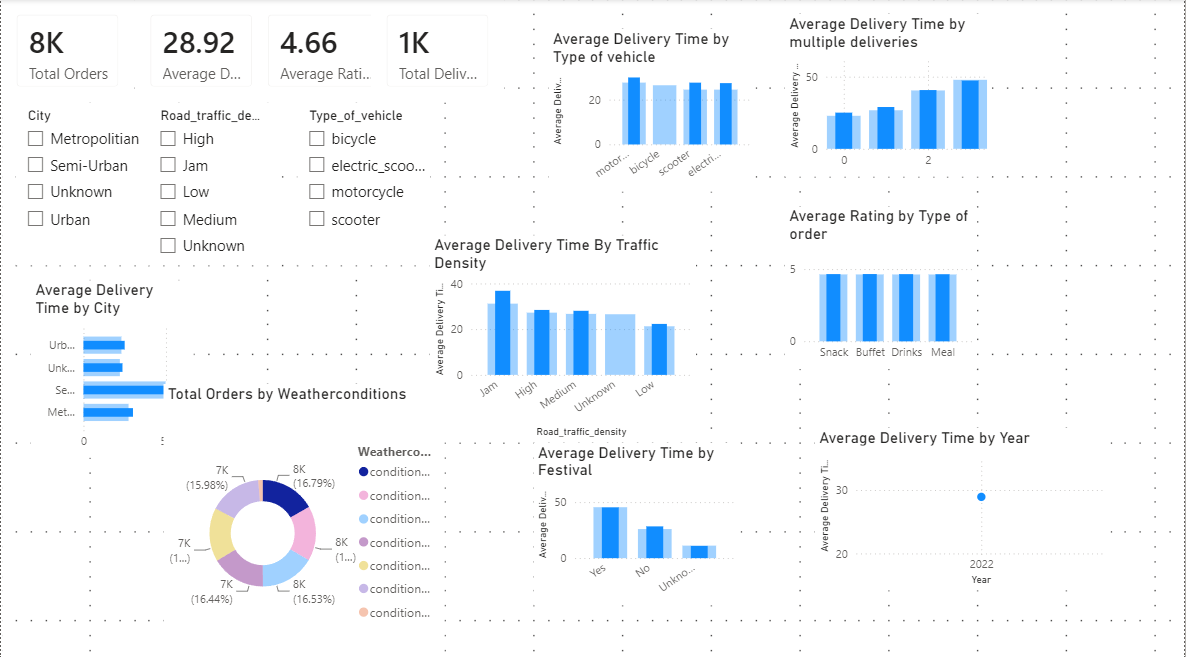

Layout of this report page (visuals, bound fields, positions):
{"tool":"powerbi","page":{"name":"Page 1","canvas":[1280,720],"ordinal":0},"visuals":[{"type":"cardVisual","fields":{"Data":["cleaned_train.Total Orders"]},"box":[0,0,144,112],"z":0},{"type":"cardVisual","fields":{"Data":["cleaned_train.Average Rating"]},"box":[272,0,160,112],"z":1000},{"type":"cardVisual","fields":{"Data":["cleaned_train.Total Delivery Persons"]},"box":[400,0,144,112],"z":2000},{"type":"cardVisual","fields":{"Data":["cleaned_train.Average Delivery Time"]},"box":[144,0,144,112],"z":3000},{"type":"clusteredBarChart","fields":{"Category":["cleaned_train.City"],"Y":["cleaned_train.Average Delivery Time"]},"box":[32,304,176,192],"z":4000},{"type":"clusteredColumnChart","title":"Average Delivery Time By Traffic Density","fields":{"Category":["cleaned_train.Road_traffic_density"],"Y":["cleaned_train.Average Delivery Time"]},"box":[464,256,288,224],"z":5000},{"type":"donutChart","fields":{"Category":["cleaned_train.Weatherconditions"],"Y":["cleaned_train.Total Orders"]},"box":[176,416,304,304],"z":6000},{"type":"clusteredColumnChart","title":"Average Delivery Time by Type of vehicle","fields":{"Category":["cleaned_train.Type_of_vehicle"],"Y":["cleaned_train.Average Delivery Time"]},"box":[592,32,224,176],"z":7000},{"type":"clusteredColumnChart","title":"Average Rating by Type of order","fields":{"Category":["cleaned_train.Type_of_order"],"Y":["cleaned_train.Average Rating"]},"box":[848,224,208,176],"z":8000},{"type":"lineChart","fields":{"Category":["cleaned_train.Order_Date.Variation.Date Hierarchy.Year","cleaned_train.Order_Date.Variation.Date Hierarchy.Quarter","cleaned_train.Order_Date.Variation.Date Hierarchy.Month","cleaned_train.Order_Date.Variation.Date Hierarchy.Day"],"Y":["cleaned_train.Average Delivery Time"]},"box":[880,464,320,176],"z":9000},{"type":"clusteredColumnChart","fields":{"Category":["cleaned_train.Festival"],"Y":["cleaned_train.Average Delivery Time"]},"box":[576,480,224,176],"z":10000},{"type":"slicer","fields":{"Values":["cleaned_train.City"]},"box":[16,112,144,176],"z":10001},{"type":"slicer","fields":{"Values":["cleaned_train.Road_traffic_density"]},"box":[160,112,144,176],"z":10002},{"type":"slicer","fields":{"Values":["cleaned_train.Type_of_vehicle"]},"box":[320,112,144,176],"z":10003},{"type":"clusteredColumnChart","title":"Average Delivery Time by multiple deliveries","fields":{"Category":["cleaned_train.multiple_deliveries"],"Y":["cleaned_train.Average Delivery Time"]},"box":[848,16,224,176],"z":10004}]}

Visuals, with their boxes in screenshot pixels (x1, y1, x2, y2), scaled from the page's 1280x720 canvas onto the 1186x657 screenshot:
cardVisual - cleaned_train.Total Orders: <bbox>0, 0, 133, 102</bbox>
cardVisual - cleaned_train.Average Rating: <bbox>252, 0, 400, 102</bbox>
cardVisual - cleaned_train.Total Delivery Persons: <bbox>371, 0, 504, 102</bbox>
cardVisual - cleaned_train.Average Delivery Time: <bbox>133, 0, 267, 102</bbox>
clusteredBarChart - cleaned_train.City x cleaned_train.Average Delivery Time: <bbox>30, 277, 193, 453</bbox>
"Average Delivery Time By Traffic Density" clusteredColumnChart: <bbox>430, 234, 697, 438</bbox>
donutChart - cleaned_train.Weatherconditions x cleaned_train.Total Orders: <bbox>163, 380, 445, 656</bbox>
"Average Delivery Time by Type of vehicle" clusteredColumnChart: <bbox>549, 29, 756, 190</bbox>
"Average Rating by Type of order" clusteredColumnChart: <bbox>786, 204, 978, 365</bbox>
lineChart - cleaned_train.Order_Date.Variation.Date Hierarchy.Year x cleaned_train.Order_Date.Variation.Date Hierarchy.Quarter: <bbox>815, 423, 1112, 584</bbox>
clusteredColumnChart - cleaned_train.Festival x cleaned_train.Average Delivery Time: <bbox>534, 438, 741, 599</bbox>
slicer - cleaned_train.City: <bbox>15, 102, 148, 263</bbox>
slicer - cleaned_train.Road_traffic_density: <bbox>148, 102, 282, 263</bbox>
slicer - cleaned_train.Type_of_vehicle: <bbox>296, 102, 430, 263</bbox>
"Average Delivery Time by multiple deliveries" clusteredColumnChart: <bbox>786, 15, 993, 175</bbox>
